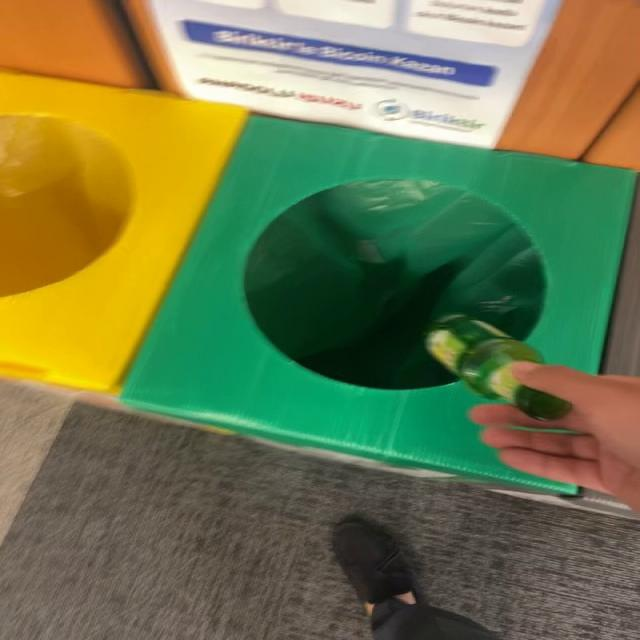glass: (425, 315, 573, 420)
